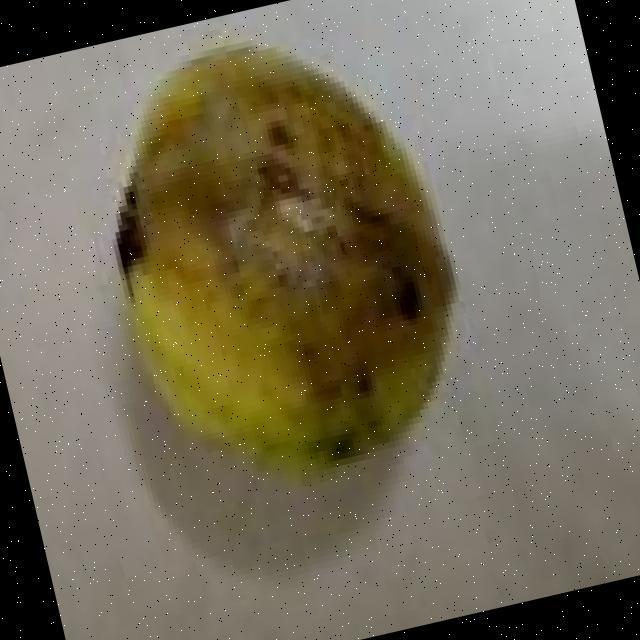Bad_Guava 0 day: (115, 49, 451, 476)
